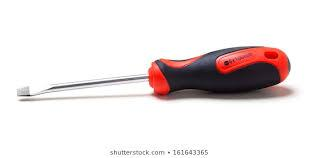screwdriver: (15, 45, 291, 97)
